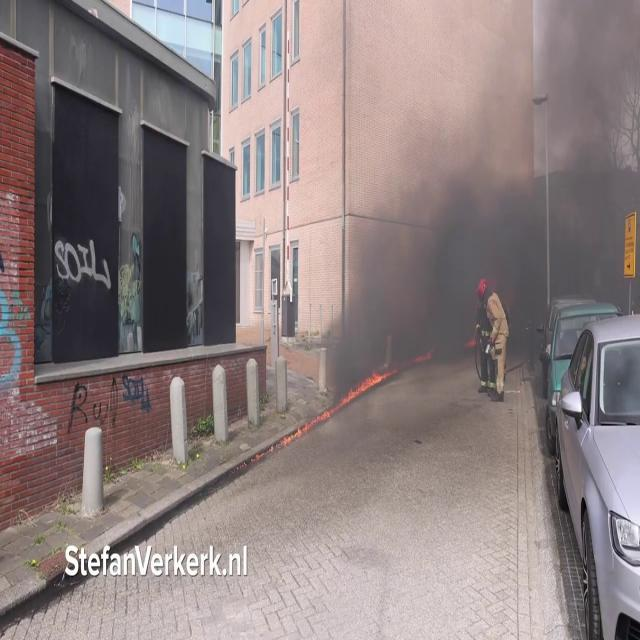Smoke: (321, 1, 640, 387)
